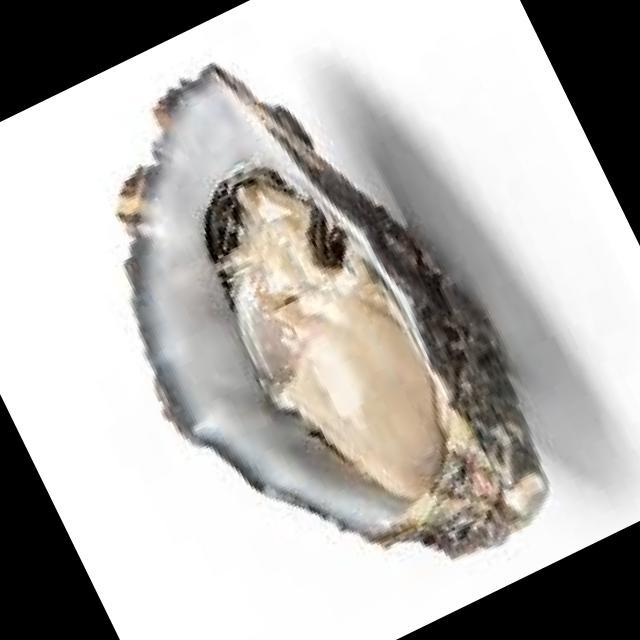Oyster-Open: (118, 66, 548, 556)
